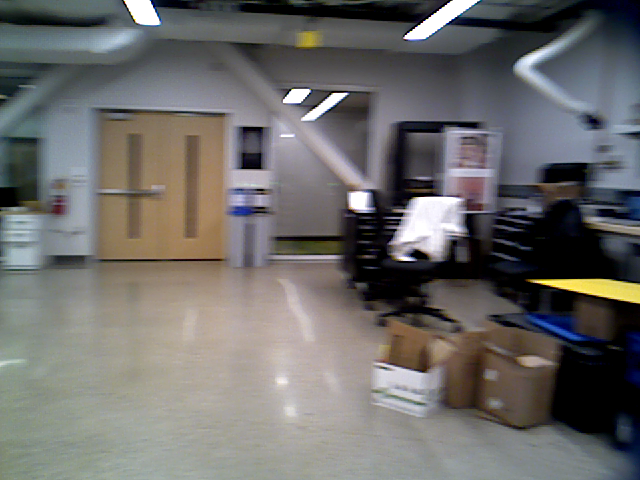painting1: (232, 128, 269, 172)
